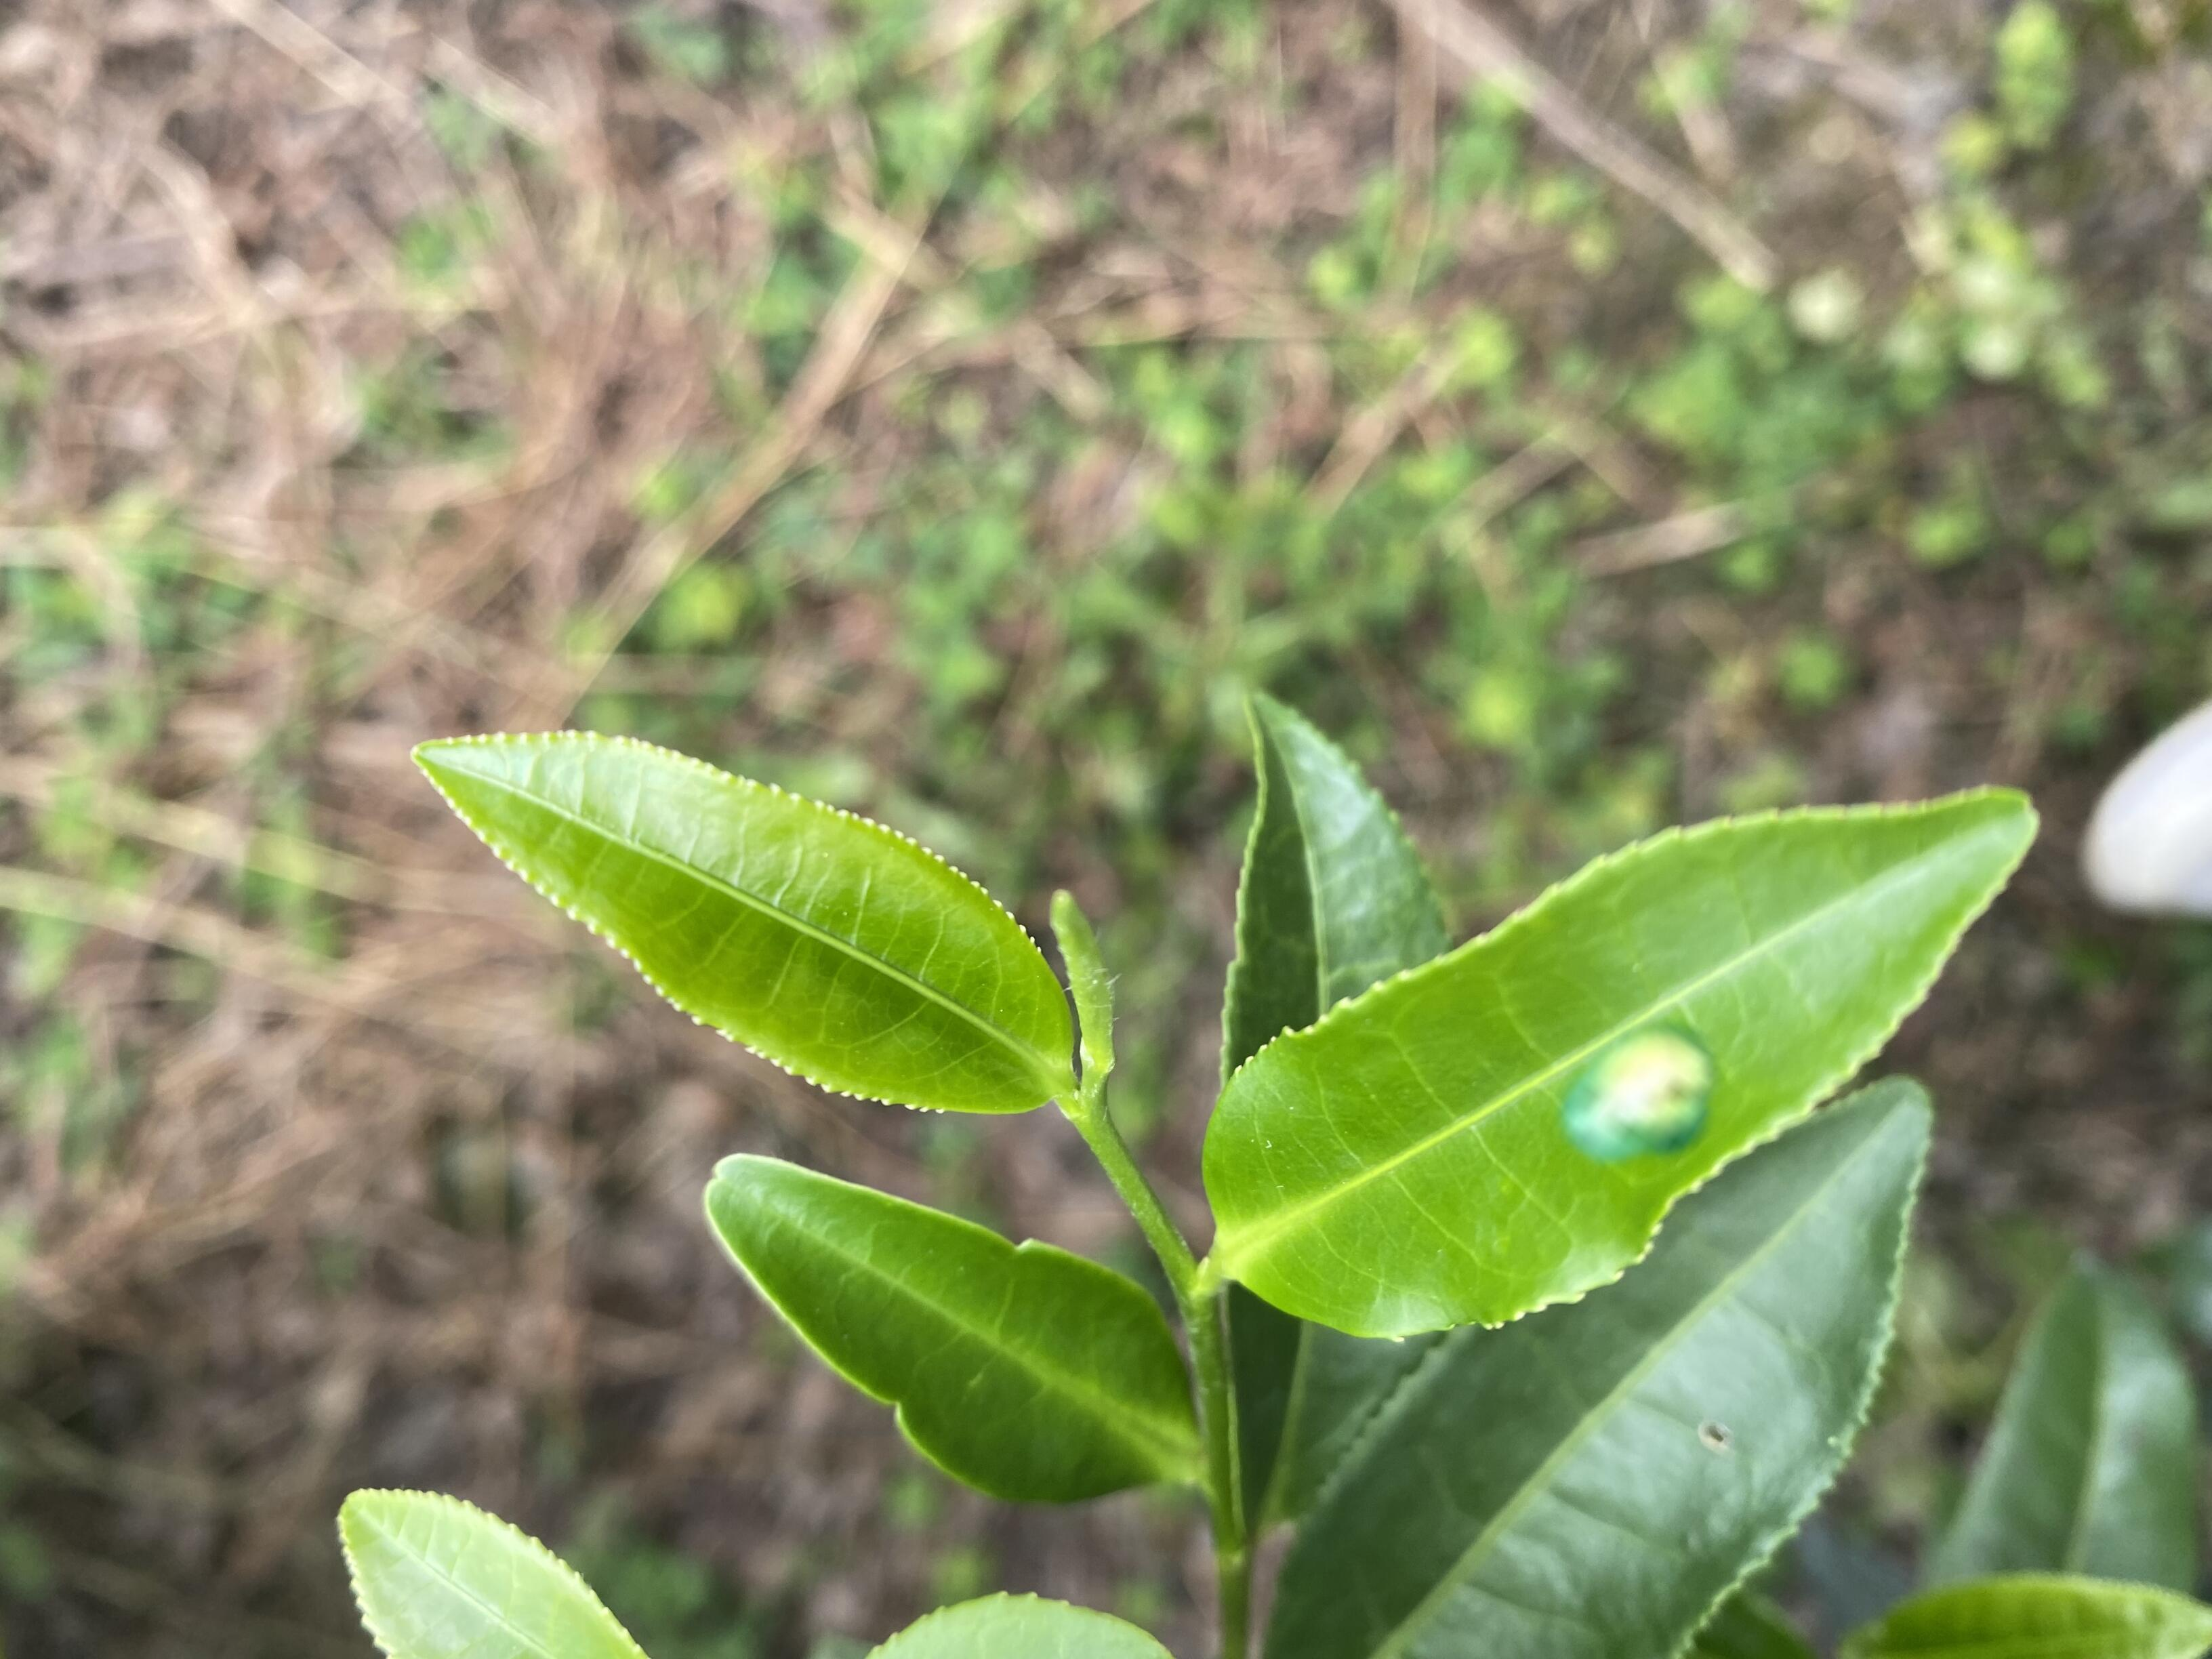chabing_low: (1200, 784, 2045, 1342)
healthy: (409, 728, 1076, 1117)
